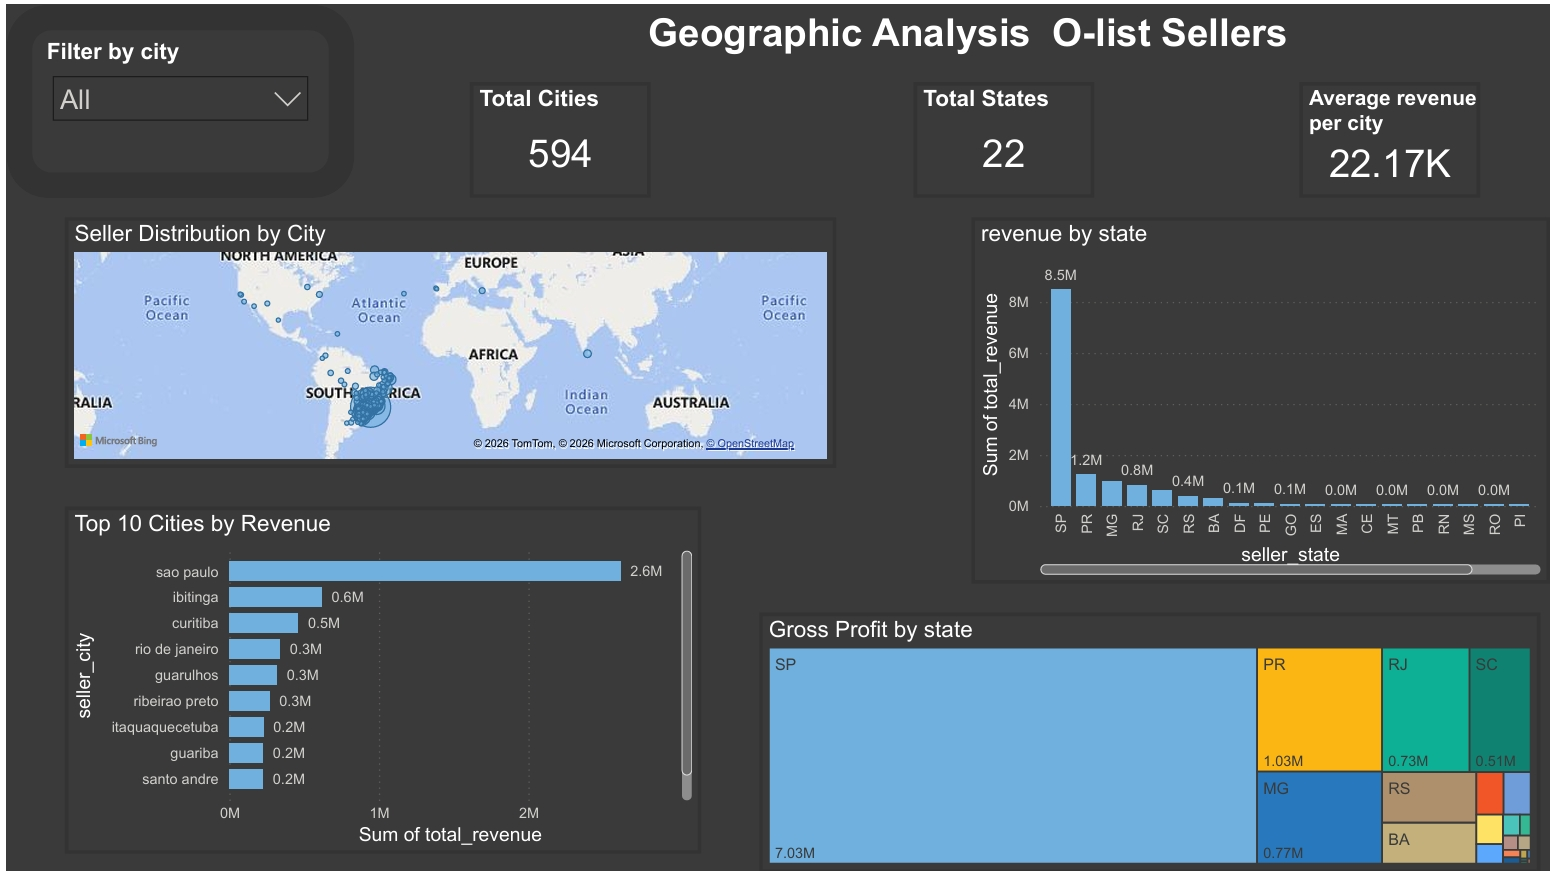

This screenshot's page, from the dashboard's own definition file:
{"tool":"powerbi","page":{"name":" Geographic Analysis","canvas":[1280,720],"ordinal":1},"visuals":[{"type":"clusteredBarChart","title":"Top 10 Cities by Revenue","fields":{"Category":["seller_summary.seller_city"],"Y":["Sum(seller_summary.total_revenue)"]},"box":[0,408,576,312],"z":0},{"type":"clusteredColumnChart","title":"revenue by state","fields":{"Category":["seller_summary.seller_state"],"Y":["Sum(seller_summary.total_revenue)"]},"box":[768,168,504,336],"z":1000},{"type":"card","title":"Total Cities","fields":{"Values":["seller_summary.Total Cities"]},"box":[0,72,360,96],"z":2000},{"type":"card","title":"Total States","fields":{"Values":["seller_summary.Total States"]},"box":[456,72,360,96],"z":3000},{"type":"card","title":"Average revenue per city","fields":{"Values":["seller_summary.Avg Revenue Per City"]},"box":[936,72,336,96],"z":4000},{"type":"map","title":"Seller Distribution by City","fields":{"Category":["seller_summary.seller_city"],"Size":["Sum(seller_summary.total_revenue)"]},"box":[0,168,576,216],"z":5000},{"type":"treemap","title":"Gross Profit by state ","fields":{"Group":["seller_summary.seller_state"],"Values":["Sum(seller_summary.gross_profit)"]},"box":[624,504,648,216],"z":6000},{"type":"textbox","box":[0,0,1272,48],"z":7000}]}

Visuals, with their boxes in screenshot pixels (x1, y1, x2, y2), scaled from the page's 1280x720 canvas onto the 1550x871 screenshot:
"Top 10 Cities by Revenue" clusteredBarChart: {"x1": 0, "y1": 494, "x2": 698, "y2": 870}
"revenue by state" clusteredColumnChart: {"x1": 930, "y1": 203, "x2": 1540, "y2": 610}
"Total Cities" card: {"x1": 0, "y1": 87, "x2": 436, "y2": 203}
"Total States" card: {"x1": 552, "y1": 87, "x2": 988, "y2": 203}
"Average revenue per city" card: {"x1": 1133, "y1": 87, "x2": 1540, "y2": 203}
"Seller Distribution by City" map: {"x1": 0, "y1": 203, "x2": 698, "y2": 465}
"Gross Profit by state " treemap: {"x1": 756, "y1": 610, "x2": 1540, "y2": 870}
textbox: {"x1": 0, "y1": 0, "x2": 1540, "y2": 58}
